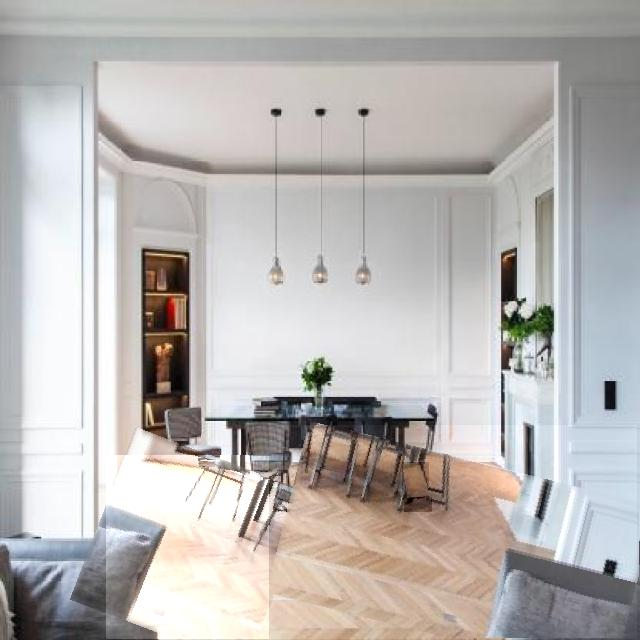floor: (270, 426, 637, 639), (107, 456, 295, 639), (402, 462, 429, 500), (405, 498, 432, 512), (260, 470, 276, 479), (199, 462, 215, 467), (273, 476, 280, 482), (259, 478, 263, 482)
